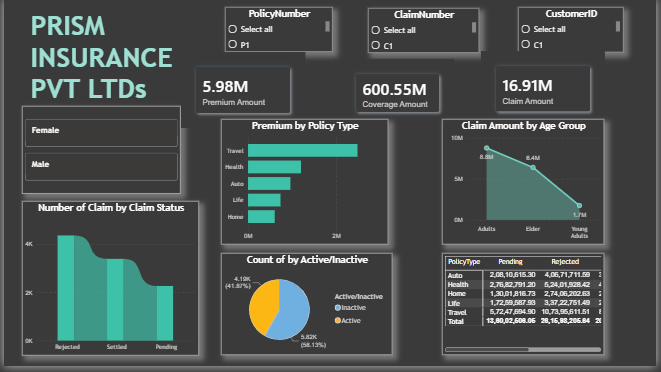

The page's visual inventory and layout, read from the dashboard file:
{"tool":"powerbi","page":{"name":"Page 1","canvas":[1280,720],"ordinal":0},"visuals":[{"type":"listSlicer","fields":{"Values":["InsuranceData.PolicyNumber"]},"box":[433.3,15.3,211.1,87.5],"z":0},{"type":"listSlicer","fields":{"Values":["InsuranceData.ClaimNumber"]},"box":[713.9,16.7,218.1,87.5],"z":1000},{"type":"listSlicer","fields":{"Values":["InsuranceData.CustomerID"]},"box":[1006.9,15.3,206.9,88.9],"z":2000},{"type":"textbox","box":[47.2,15.3,300,205.6],"z":3000},{"type":"cardVisual","fields":{"Rows":["InsuranceData.Gender","InsuranceData.Gender"]},"box":[36.1,209.7,311.1,172.2],"z":4000},{"type":"cardVisual","fields":{"Data":["Sum(InsuranceData.PremiumAmount)"]},"box":[347.1,103.5,243.5,149.4],"z":5000},{"type":"cardVisual","fields":{"Data":["Sum(InsuranceData.CoverageAmount)"]},"box":[661.1,118.1,222.2,133.3],"z":6000},{"type":"cardVisual","fields":{"Data":["Sum(InsuranceData.ClaimAmount)"]},"box":[934.7,102.8,243.1,148.6],"z":7000},{"type":"ribbonChart","title":"Number of Claim by Claim Status","fields":{"Category":["InsuranceData.ClaimStatus"],"Y":["CountNonNull(InsuranceData.ClaimNumber)"]},"box":[36.1,395.8,347.2,302.8],"z":8000},{"type":"barChart","title":"Premium by Policy Type","fields":{"Category":["InsuranceData.PolicyType"],"Y":["Sum(InsuranceData.PremiumAmount)"]},"box":[426.4,236.1,327.8,245.8],"z":9000},{"type":"lineChart","title":" Claim Amount by Age Group","fields":{"Category":["InsuranceData.Age Group"],"Y":["Sum(InsuranceData.ClaimAmount)"]},"box":[859.7,236.1,318.1,245.8],"z":10000},{"type":"pieChart","title":"Count of  by Active/Inactive","fields":{"Category":["InsuranceData.Active/Inactive"],"Y":["CountNonNull(InsuranceData.Active/Inactive)"]},"box":[426.4,498.6,336.1,200],"z":11000},{"type":"pivotTable","fields":{"Values":["Sum(InsuranceData.CoverageAmount)"],"Rows":["InsuranceData.PolicyType"],"Columns":["InsuranceData.ClaimStatus"]},"box":[859.7,498.6,318.1,200],"z":12000}]}

Visuals, with their boxes in screenshot pixels (x1, y1, x2, y2), scaled from the page's 1280x720 canvas onto the 661x372 screenshot:
listSlicer - InsuranceData.PolicyNumber: <bbox>224, 8, 333, 53</bbox>
listSlicer - InsuranceData.ClaimNumber: <bbox>369, 9, 481, 54</bbox>
listSlicer - InsuranceData.CustomerID: <bbox>520, 8, 627, 54</bbox>
textbox: <bbox>24, 8, 179, 114</bbox>
cardVisual - InsuranceData.Gender x InsuranceData.Gender: <bbox>19, 108, 179, 197</bbox>
cardVisual - Sum(InsuranceData.PremiumAmount): <bbox>179, 53, 305, 131</bbox>
cardVisual - Sum(InsuranceData.CoverageAmount): <bbox>341, 61, 456, 130</bbox>
cardVisual - Sum(InsuranceData.ClaimAmount): <bbox>483, 53, 608, 130</bbox>
"Number of Claim by Claim Status" ribbonChart: <bbox>19, 204, 198, 361</bbox>
"Premium by Policy Type" barChart: <bbox>220, 122, 389, 249</bbox>
" Claim Amount by Age Group" lineChart: <bbox>444, 122, 608, 249</bbox>
"Count of  by Active/Inactive" pieChart: <bbox>220, 258, 394, 361</bbox>
pivotTable - Sum(InsuranceData.CoverageAmount) x InsuranceData.PolicyType: <bbox>444, 258, 608, 361</bbox>
